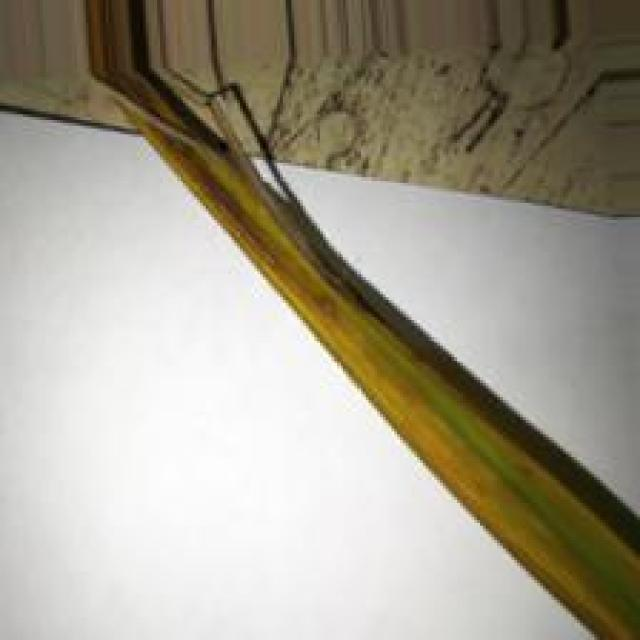Leaf_Scald: (146, 119, 343, 330)
